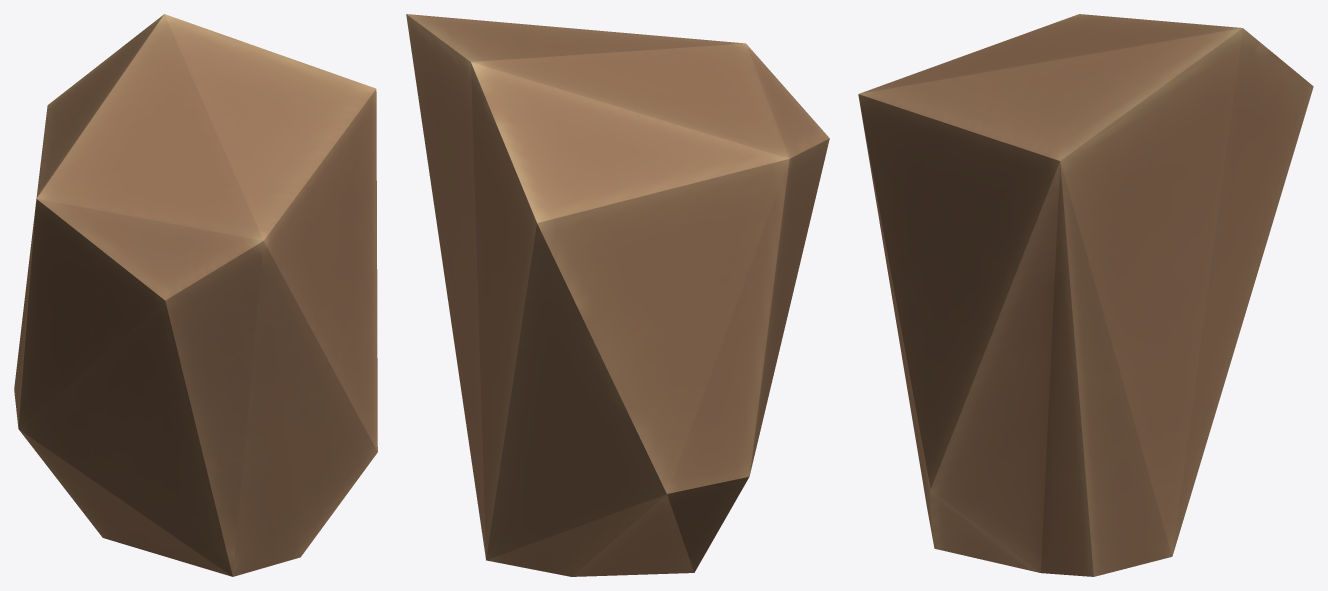
The model's file is Rock_25.fbx.
3 views of the same model, side by side, from view 1: azimuth 30°, elevation 25°; view 2: azimuth 150°, elevation 25°; view 3: azimuth 270°, elevation 25° (orthographic). The views are drawn at different scales.
Visible parts, largest first — view 1: Rock_25; view 2: Rock_25; view 3: Rock_25.
Part boxes in pixels (<box>): Rock_25: <box>14,14,377,576</box>; Rock_25: <box>406,14,829,576</box>; Rock_25: <box>858,14,1313,576</box>.
Bounding box in the file's own units: 25.1 × 32.31 × 25.71.
